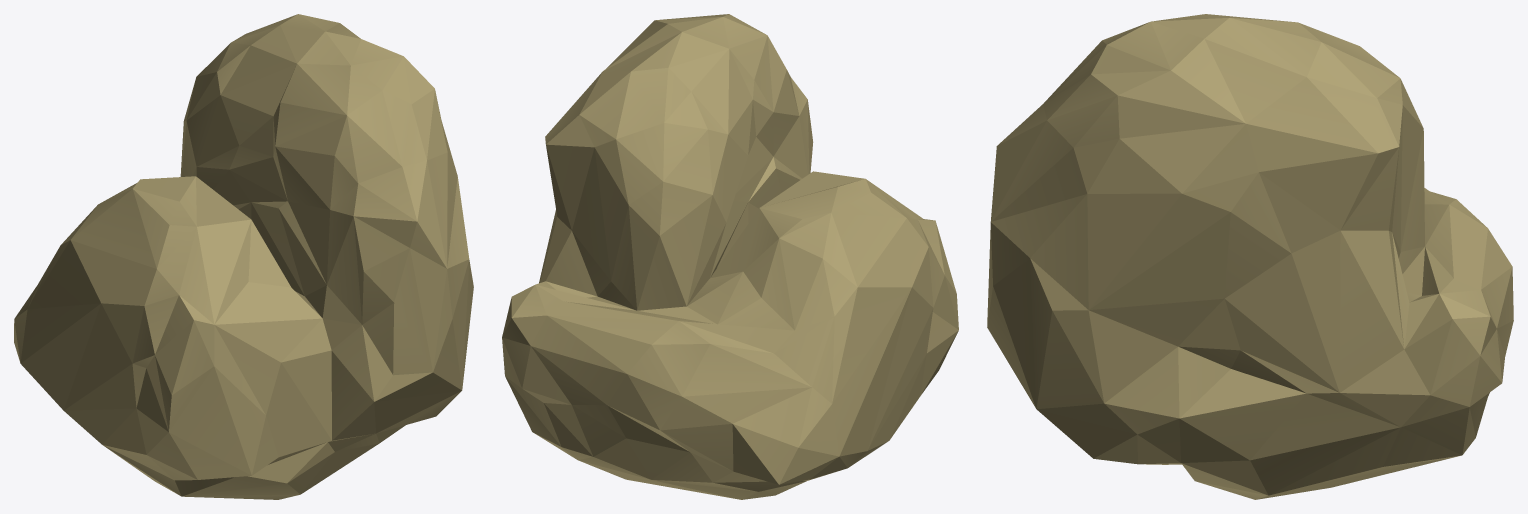
File: SM_rock_39.fbx
3 views of the same model, side by side, from view 1: azimuth 30°, elevation 25°; view 2: azimuth 150°, elevation 25°; view 3: azimuth 270°, elevation 25° (orthographic). The views are drawn at different scales.
Parts seen in each view (by area): view 1: rock_39; view 2: rock_39; view 3: rock_39.
Boxes of the visible parts, x1=… form: rock_39: x1=14, y1=14, x2=473, y2=499; rock_39: x1=502, y1=14, x2=958, y2=499; rock_39: x1=987, y1=14, x2=1513, y2=499.
Bounding box in the file's own units: 140 × 175 × 170.
